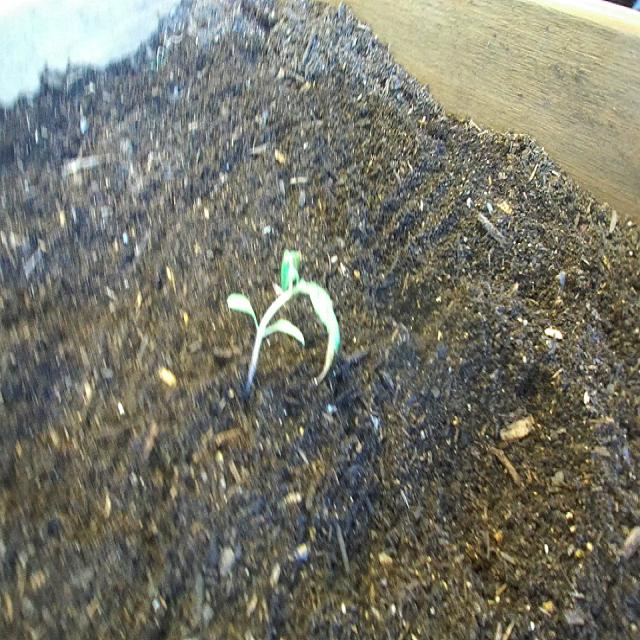Healthy: (223, 243, 344, 405)
